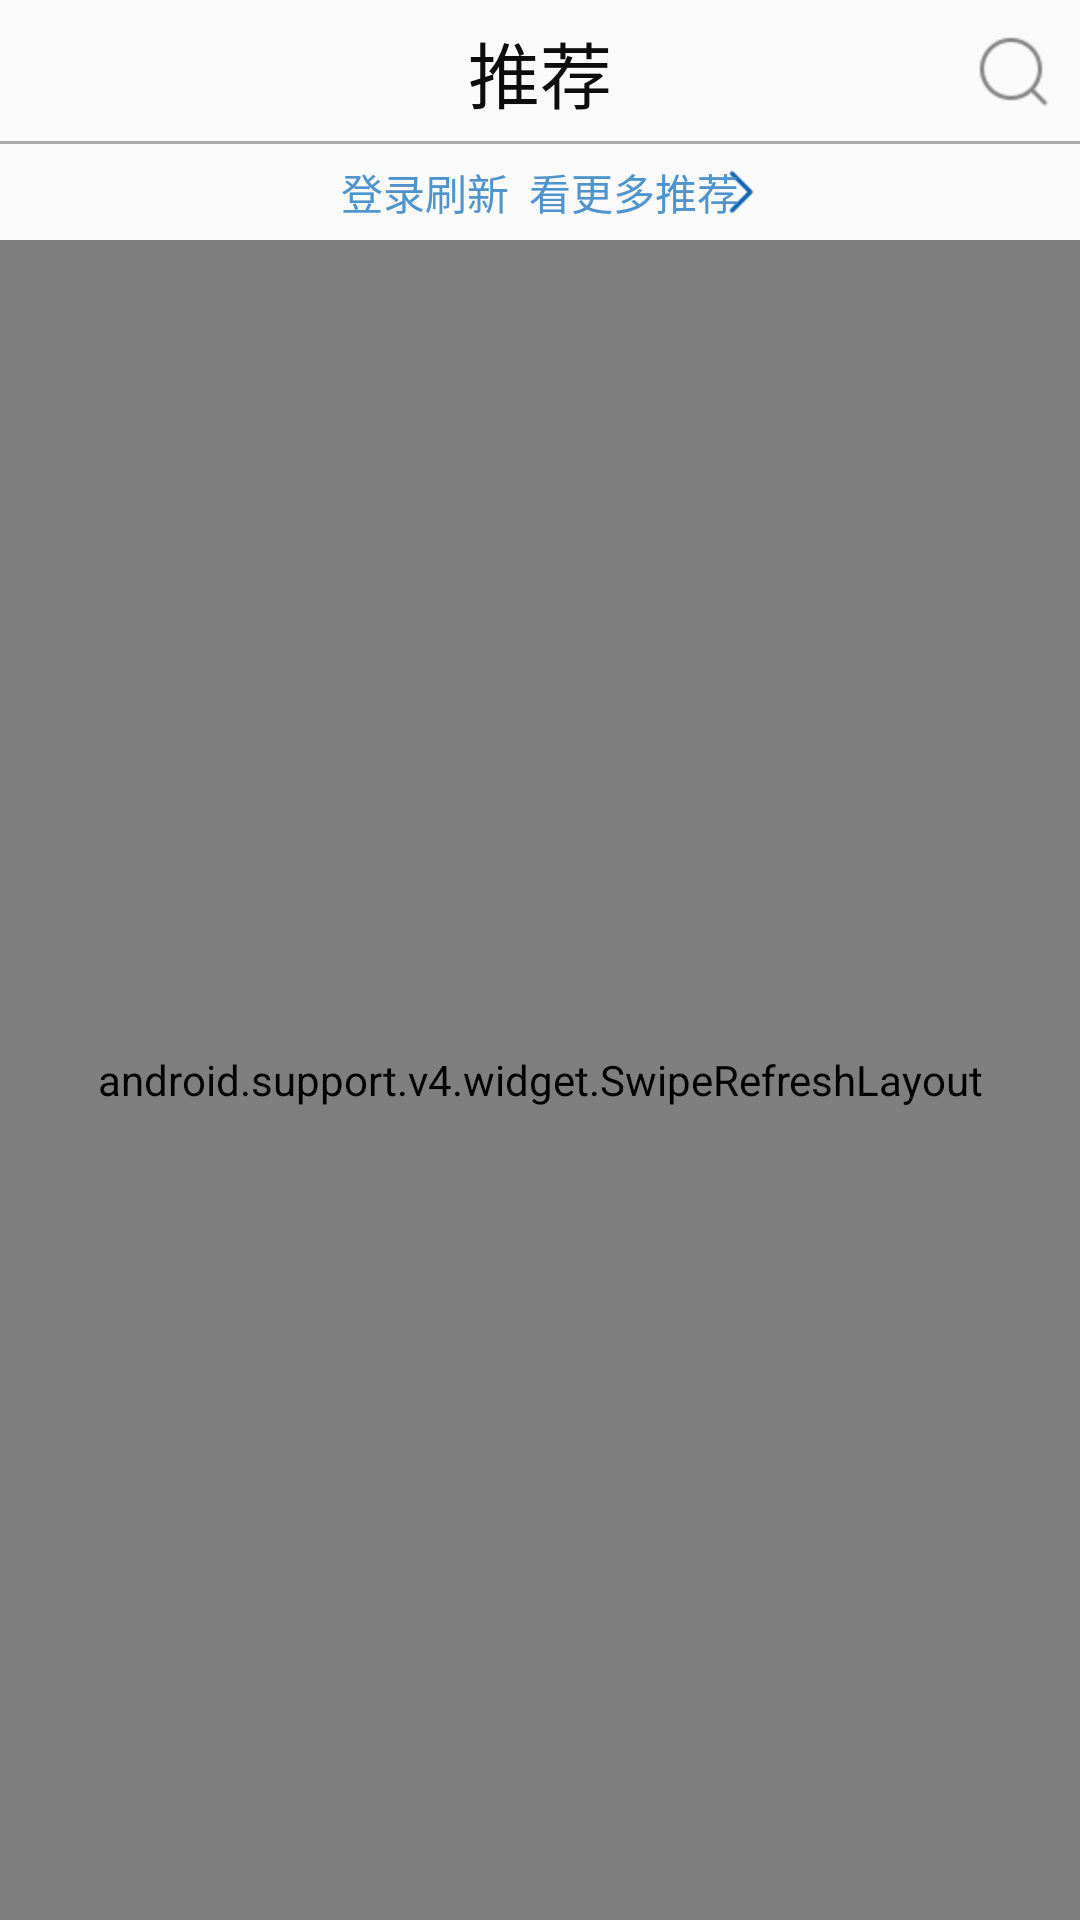

Locate icon controls on the screen. Image size 1080*1920, boxes as (x1=x1, y1=y1, x2=x2, y2=y2).
night live search: (x1=979, y1=37, x2=1048, y2=106)
